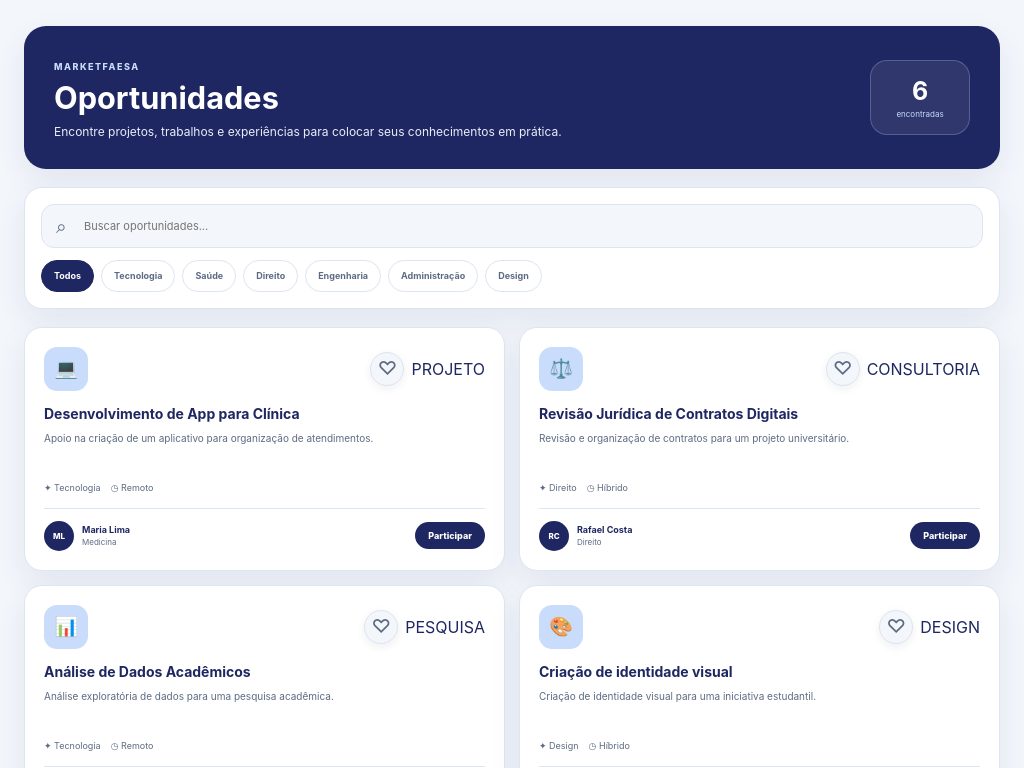
it: persistência das ações em oportunidades › não confirma participação se o armazenamento falhar
This screenshot has width=1024, height=768.
Click the button "Participar" in the row of "Maria Lima".
click(450, 536)  # box [415,522,485,549]
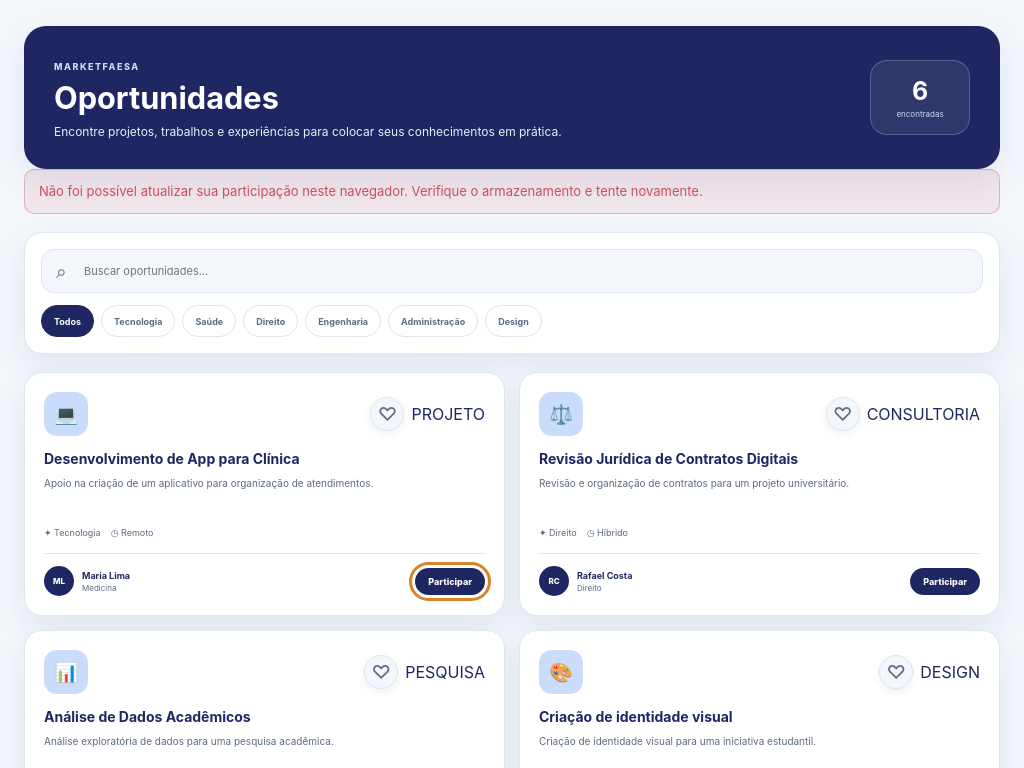
Check: the button "Participar" in the row of "Maria Lima" is shown, box [415,568,485,595]
Check: the message shows "Não foi possível atualizar sua participação", box [39,183,703,199]
